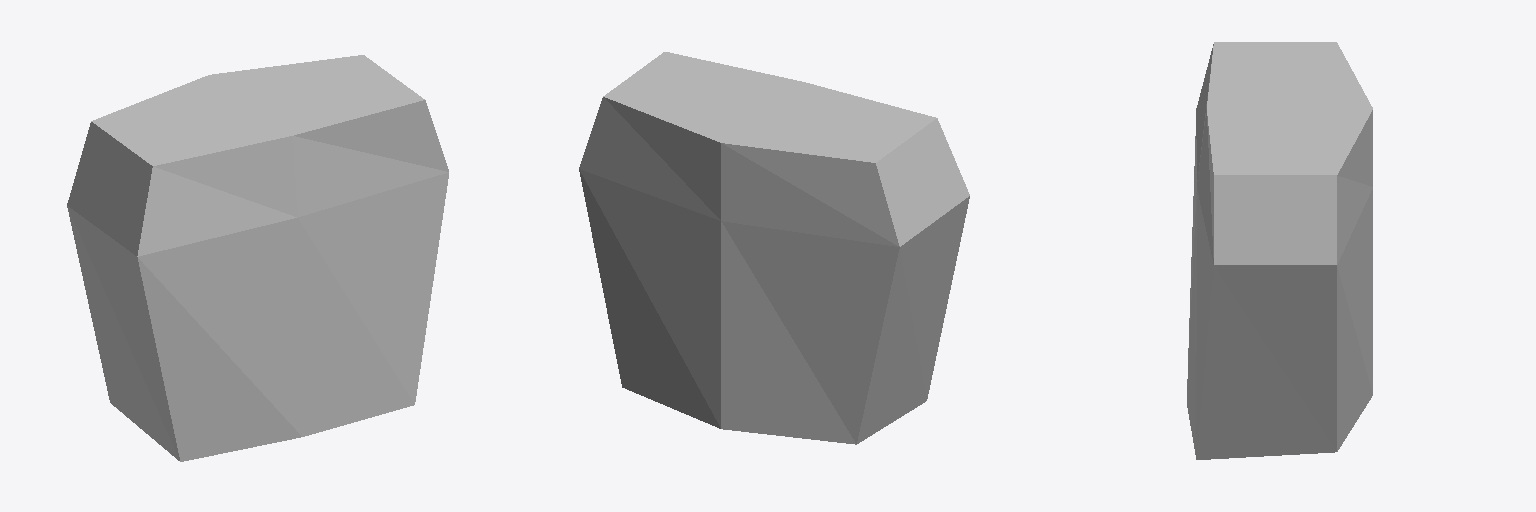
The model's file is torso.obj.
3 views of the same model, side by side, from view 1: azimuth 30°, elevation 25°; view 2: azimuth 150°, elevation 25°; view 3: azimuth 270°, elevation 25° (orthographic).
Visible parts, largest first — view 1: torso_Cube.001; view 2: torso_Cube.001; view 3: torso_Cube.001.
Part boxes in pixels (x1,y1,x2,y2): torso_Cube.001: (67, 55, 448, 461); torso_Cube.001: (579, 52, 969, 444); torso_Cube.001: (1187, 42, 1372, 459).
Size of the model in its own units: 1.88 by 1.65 by 0.9487.